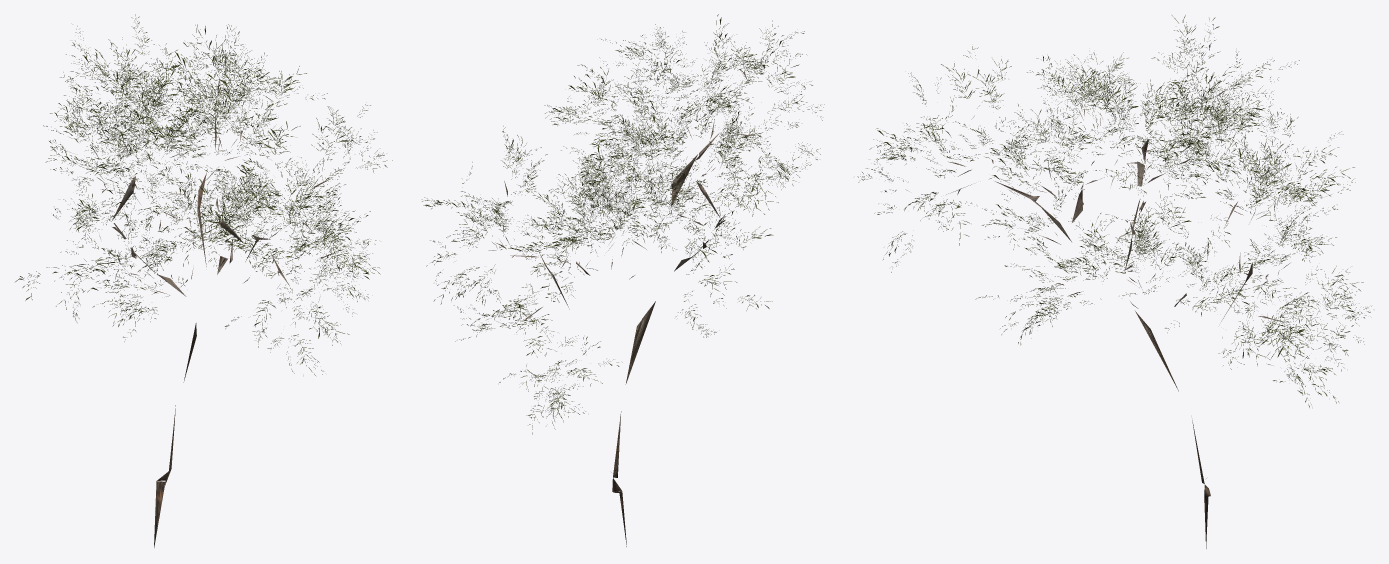
Rendered from tree_small_02.glb.
3 views of the same model, side by side, from view 1: azimuth 30°, elevation 25°; view 2: azimuth 150°, elevation 25°; view 3: azimuth 270°, elevation 25° (orthographic). The views are drawn at different scales.
Visible parts, largest first — view 1: tree_small_02_LOD0; view 2: tree_small_02_LOD0; view 3: tree_small_02_LOD0.
Boxes of the visible parts, x1,y1,x2,y2 form: tree_small_02_LOD0: (15,14,392,547); tree_small_02_LOD0: (422,14,824,546); tree_small_02_LOD0: (857,15,1371,548).
Size of the model in its own units: 2.87 by 4.5 by 4.27.
Materials: 3 (3 with a texture image).
